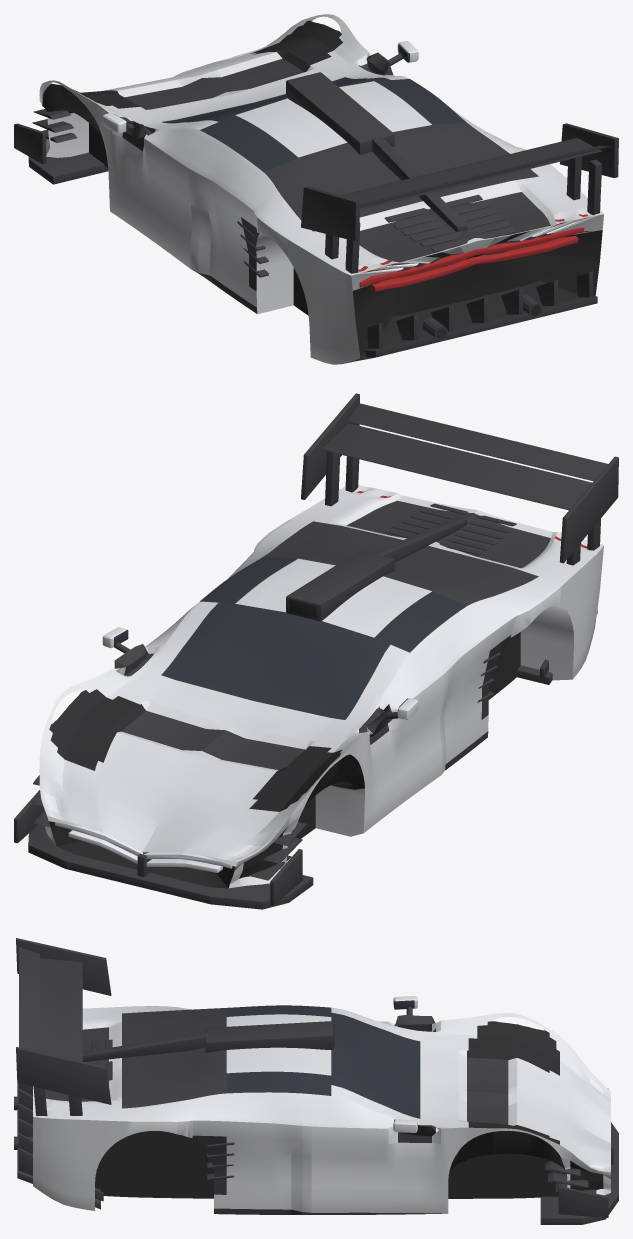
Rendered from exo_hyper_b.glb.
3 renders of one model, top to bottom at view 1: azimuth 30°, elevation 25°; view 2: azimuth 150°, elevation 25°; view 3: azimuth 270°, elevation 25°, orthographic. The views are drawn at different scales.
Parts seen in each view (by area): view 1: exo_hyper_b; view 2: exo_hyper_b; view 3: exo_hyper_b.
Boxes of the visible parts, x1,y1,x2,y2 form: exo_hyper_b: (14,14,618,364); exo_hyper_b: (14,393,618,909); exo_hyper_b: (14,938,618,1224).
Bounding box in the file's own units: 2.33 × 1.49 × 4.62.
